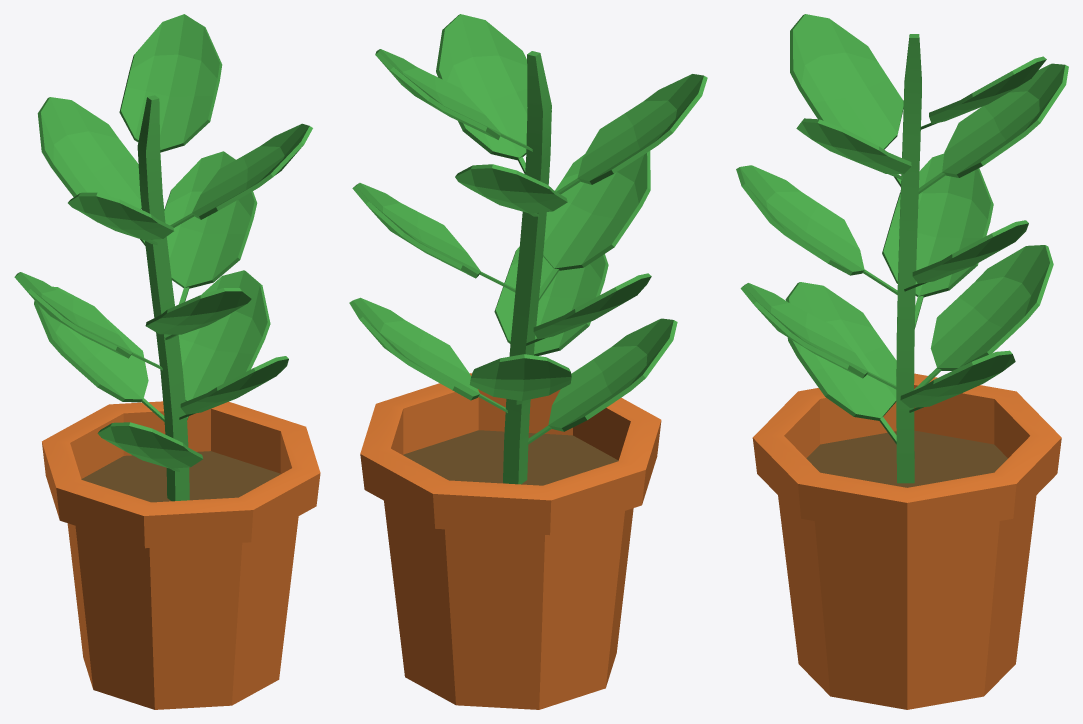
The model's file is potPlant.fbx.
3 views of the same model, side by side, from view 1: azimuth 30°, elevation 25°; view 2: azimuth 150°, elevation 25°; view 3: azimuth 270°, elevation 25° (orthographic). The views are drawn at different scales.
Parts seen in each view (by area): view 1: potPlant; view 2: potPlant; view 3: potPlant.
Boxes of the visible parts, x1,y1,x2,y2 form: potPlant: [14, 14, 320, 709]; potPlant: [349, 14, 707, 709]; potPlant: [736, 14, 1068, 709].
Bounding box in the file's own units: 37.32 × 79.1 × 37.4.
